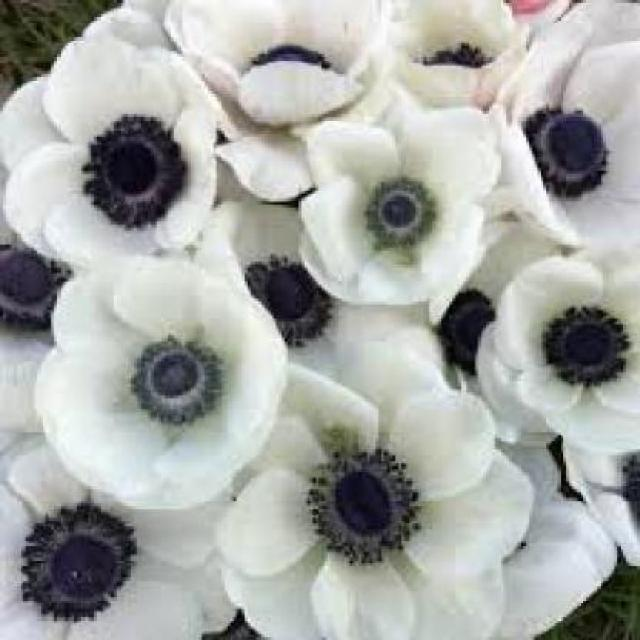Flower: (213, 328, 541, 637), (37, 259, 288, 513), (3, 37, 223, 271), (3, 438, 243, 638), (299, 105, 502, 325), (481, 2, 638, 253), (475, 256, 638, 455), (162, 3, 390, 129), (372, 3, 526, 117), (20, 500, 140, 623), (304, 446, 421, 566), (82, 114, 191, 234), (225, 253, 336, 350), (128, 336, 225, 430), (518, 106, 612, 203), (543, 304, 632, 390), (433, 288, 510, 379), (3, 239, 77, 333), (365, 176, 436, 253), (251, 46, 332, 86)
